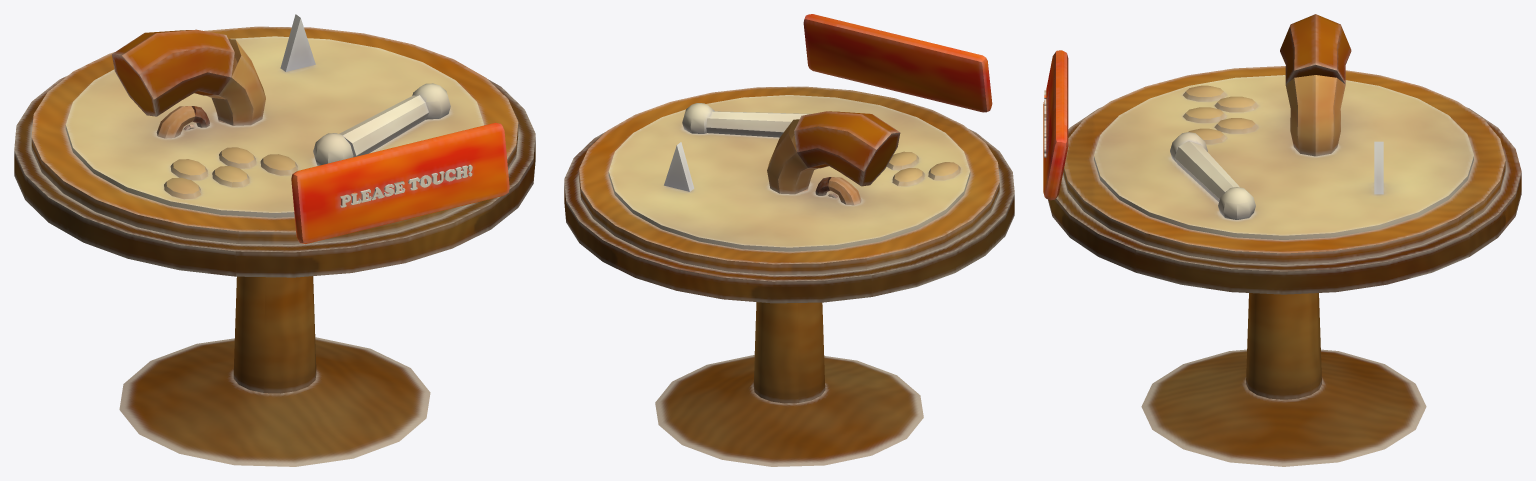
The model's file is touch_table.glb.
3 views of the same model, side by side, from view 1: azimuth 30°, elevation 25°; view 2: azimuth 150°, elevation 25°; view 3: azimuth 270°, elevation 25° (orthographic). The views are drawn at different scales.
Parts seen in each view (by area): view 1: SM_TouchTable; view 2: SM_TouchTable; view 3: SM_TouchTable.
Part boxes in pixels (bbox=[...]): SM_TouchTable: bbox=[14, 14, 535, 466]; SM_TouchTable: bbox=[564, 14, 1014, 466]; SM_TouchTable: bbox=[1043, 14, 1521, 466].
Size of what is drawn, in the model's own units: 1.5 by 1.2 by 1.51.
Materials: 1 (1 with a texture image).
